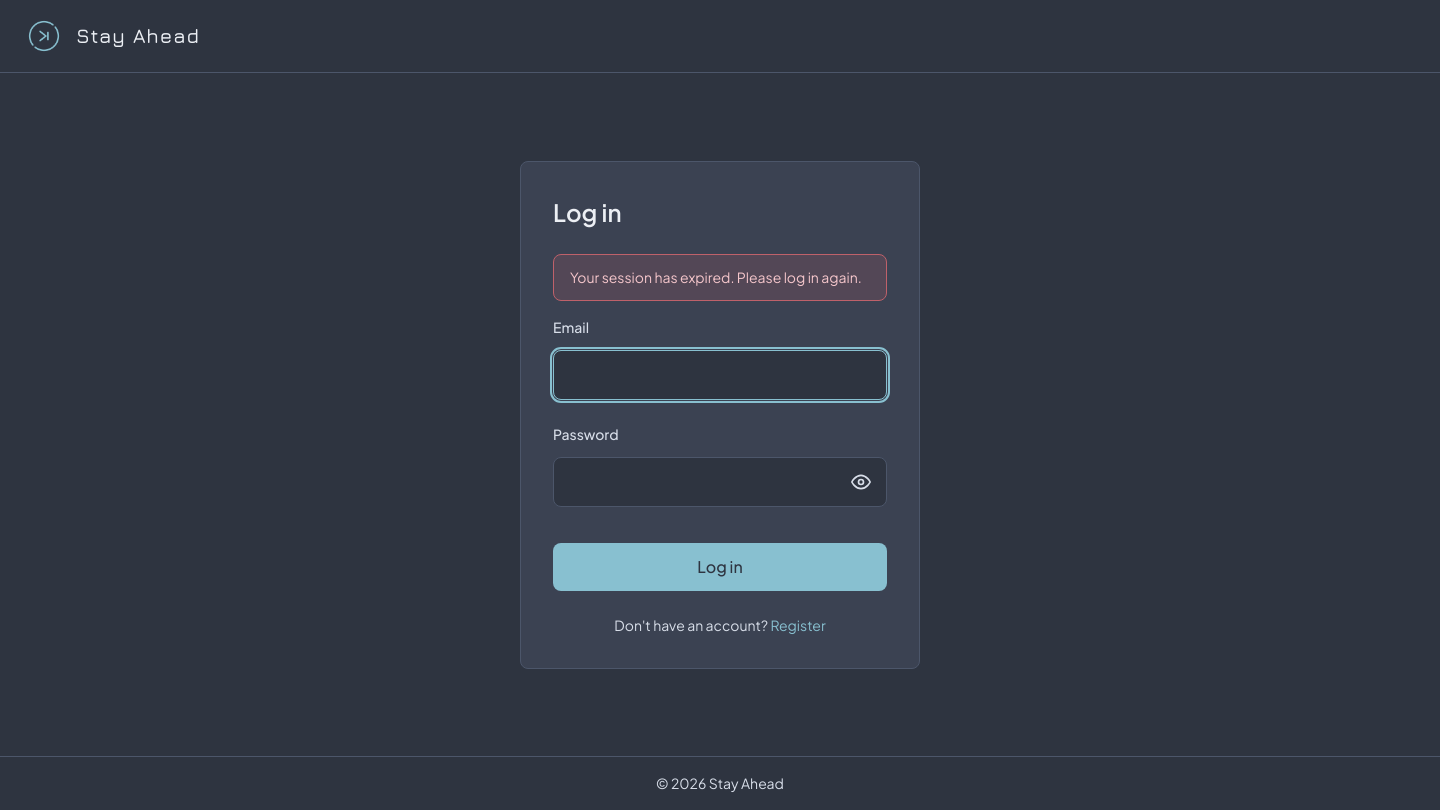
LoginPage › shows invalid credentials instead of the expired-session message after a failed login
Type "user@example.com" into the field labelled "Email" at (720, 374), box x1=553 y1=350 x2=887 y2=400
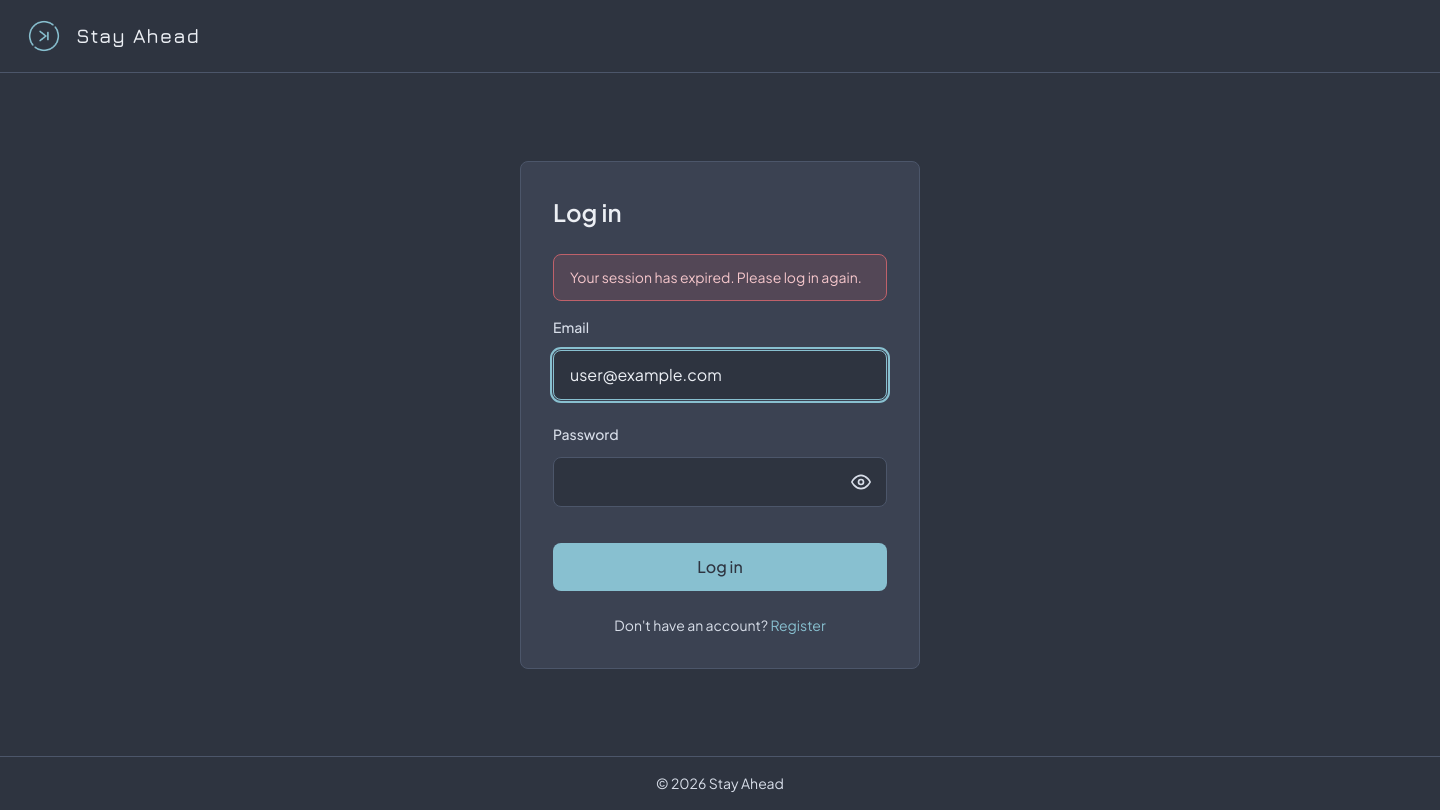
Type "WrongPassword123!" into the password field labelled "Password" at (720, 482), box x1=553 y1=456 x2=887 y2=506
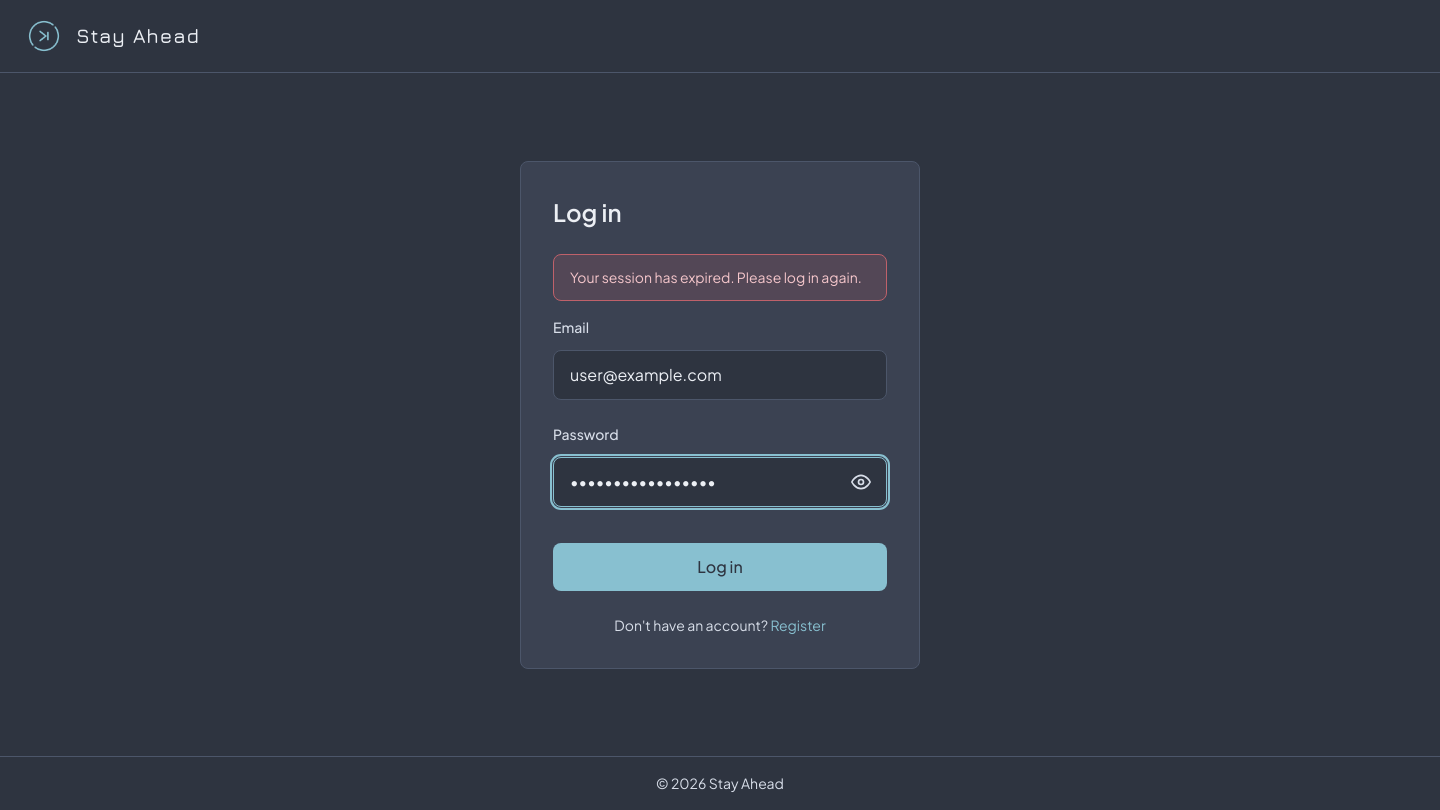
Click the button "Log in" at (720, 566), box x1=553 y1=542 x2=887 y2=590
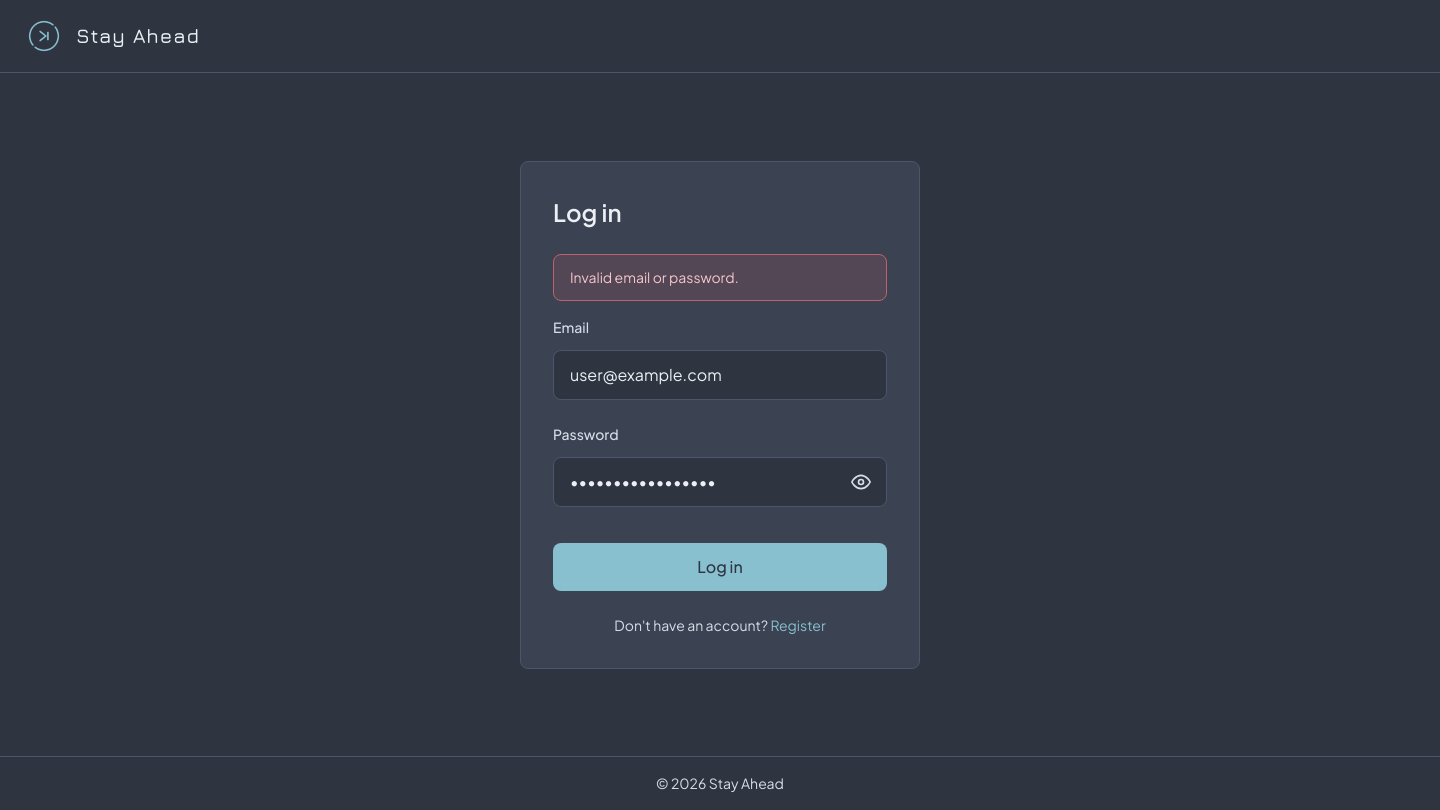
Check: the message reads "Invalid email or password.", box x1=570 y1=268 x2=739 y2=286
Check: the text "Your session has expired. Please log in again." is gone
